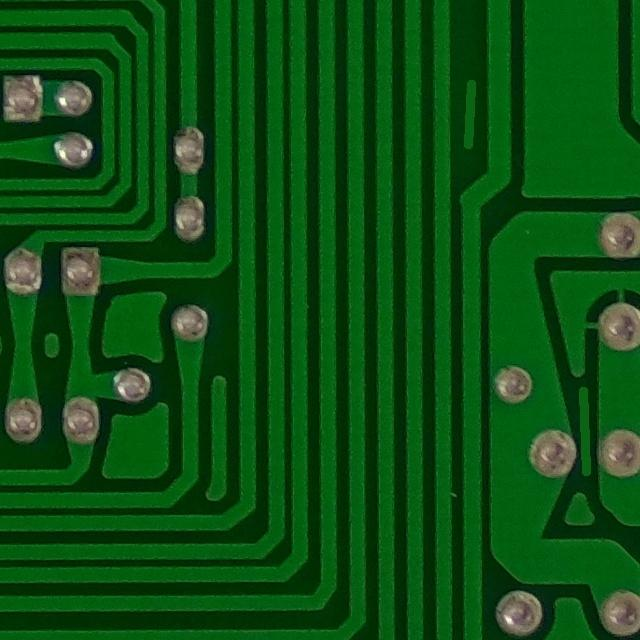spurious_copper: (552, 369, 620, 501), (447, 64, 484, 159)
